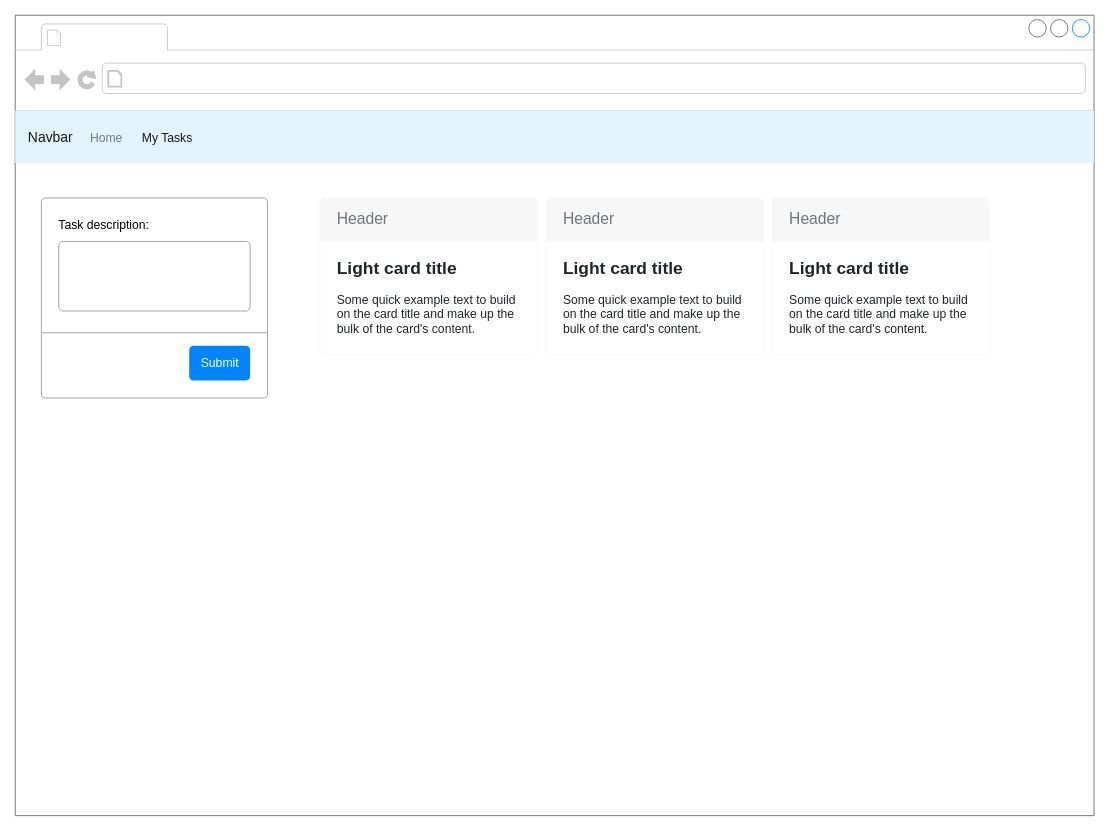
The diagram is 1109 pixels wide and 831 high, and some of its shapes have lost their labels. Here are the shapes that lost their labels. From the top down, the box of each, then its label:
(67, 25, 163, 48): Page 1
(127, 67, 346, 90): https://localhost:3000
